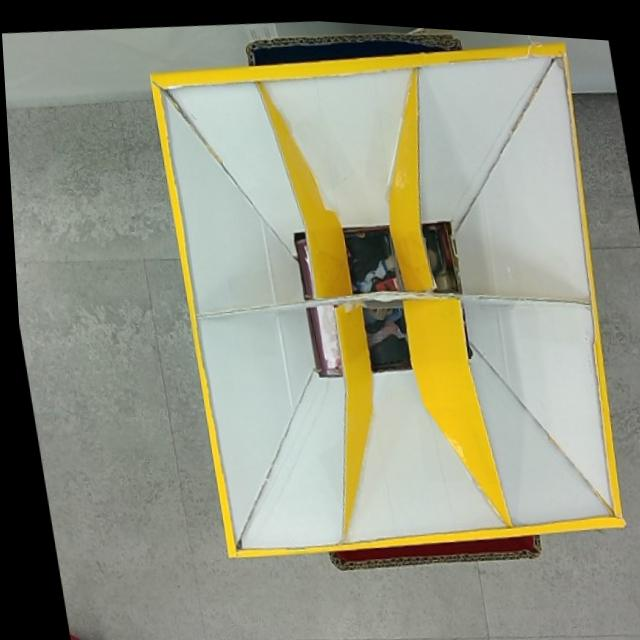box: (139, 7, 640, 593)
